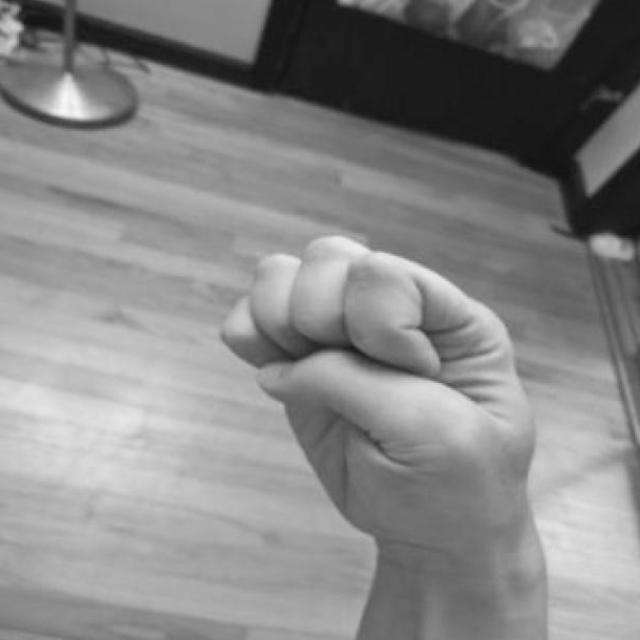E: (203, 215, 578, 605)
